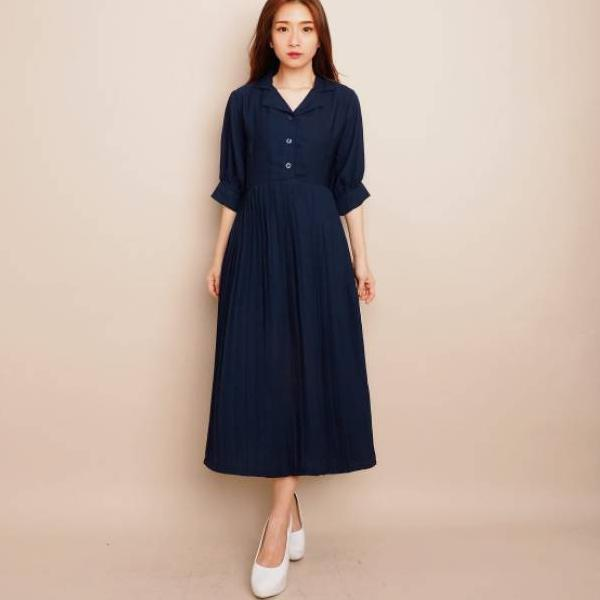dress: (199, 61, 383, 493)
